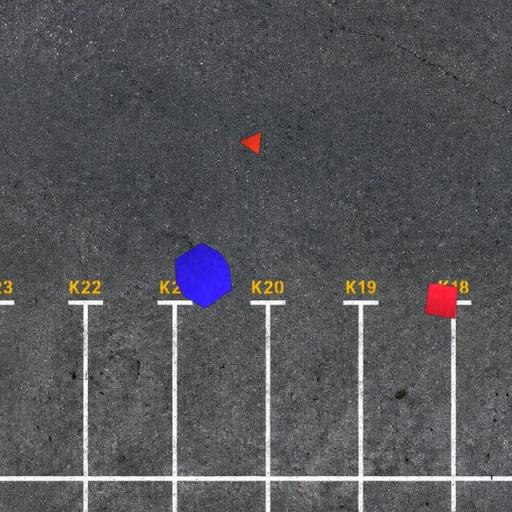RED_SQUARE: (424, 282, 458, 320)
